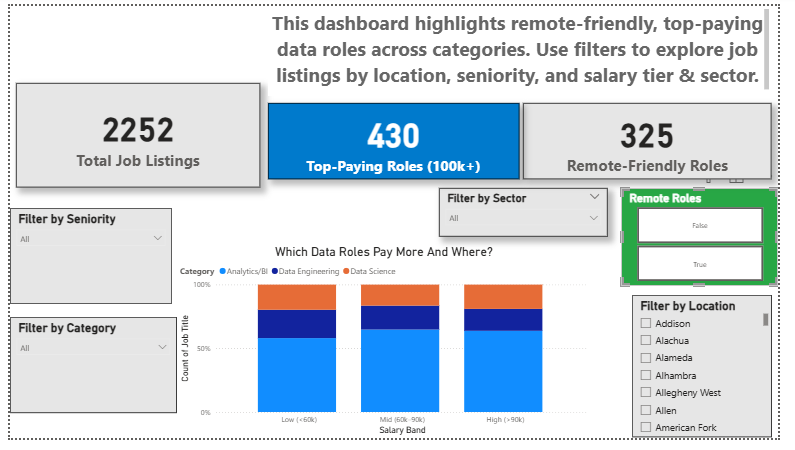

The dashboard page shown, as its layout file describes it:
{"tool":"powerbi","page":{"name":"Salary Band Distribution","canvas":[1280,720],"ordinal":0},"visuals":[{"type":"hundredPercentStackedColumnChart","title":"Which Data Roles Pay More And Where?","fields":{"Y":["CountNonNull(DataAnalyst_cleaned_full.Job Title)"],"Category":["SalaryBandLookup.SalaryBandDisplay"],"Series":["DataAnalyst_cleaned_full.Category"]},"box":[278.3,398.3,690,321.7],"z":0},{"type":"slicer","fields":{"Values":["DataAnalyst_cleaned_full.Category"]},"box":[0,519,277.8,160.3],"z":1000},{"type":"slicer","fields":{"Values":["DataAnalyst_cleaned_full.Seniority"]},"box":[0,336.7,270,160],"z":2000},{"type":"slicer","fields":{"Values":["DataAnalyst_cleaned_full.Sector"]},"box":[714.3,302.9,281.4,81.4],"z":3000},{"type":"slicer","fields":{"Values":["DataAnalyst_cleaned_full.Remote_Friendly"]},"box":[1018.3,303.3,261.7,163.3],"z":4000},{"type":"slicer","fields":{"Values":["DataAnalyst_cleaned_full.Location_Clean"]},"box":[1036.7,481.7,233.3,236.7],"z":5000},{"type":"card","fields":{"Values":["CountNonNull(DataAnalyst_cleaned_full.Job Title)"]},"box":[10.8,128.4,406.8,174.3],"z":6000},{"type":"card","fields":{"Values":["Average Salary by Category.RemoteRoleCount_Alt"]},"box":[855.7,161.4,414.3,127.1],"z":7000},{"type":"card","fields":{"Values":["DataAnalyst_cleaned_full.HighBandRoleCount_Clean"]},"box":[430,161.4,418.6,127.1],"z":8000},{"type":"textbox","box":[430,0,840,150],"z":9000}]}

Visuals, with their boxes in screenshot pixels (x1, y1, x2, y2), scaled from the page's 1280x720 canvas onto the 795x450 screenshot:
"Which Data Roles Pay More And Where?" hundredPercentStackedColumnChart: {"x1": 173, "y1": 249, "x2": 601, "y2": 449}
slicer - DataAnalyst_cleaned_full.Category: {"x1": 0, "y1": 324, "x2": 173, "y2": 425}
slicer - DataAnalyst_cleaned_full.Seniority: {"x1": 0, "y1": 210, "x2": 168, "y2": 310}
slicer - DataAnalyst_cleaned_full.Sector: {"x1": 444, "y1": 189, "x2": 618, "y2": 240}
slicer - DataAnalyst_cleaned_full.Remote_Friendly: {"x1": 632, "y1": 190, "x2": 794, "y2": 292}
slicer - DataAnalyst_cleaned_full.Location_Clean: {"x1": 644, "y1": 301, "x2": 789, "y2": 449}
card - CountNonNull(DataAnalyst_cleaned_full.Job Title): {"x1": 7, "y1": 80, "x2": 259, "y2": 189}
card - Average Salary by Category.RemoteRoleCount_Alt: {"x1": 531, "y1": 101, "x2": 789, "y2": 180}
card - DataAnalyst_cleaned_full.HighBandRoleCount_Clean: {"x1": 267, "y1": 101, "x2": 527, "y2": 180}
textbox: {"x1": 267, "y1": 0, "x2": 789, "y2": 94}
